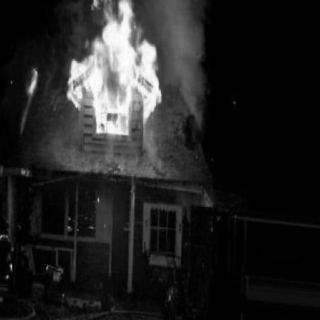Fire: (20, 64, 44, 110)
Smoke: (168, 8, 211, 104)
